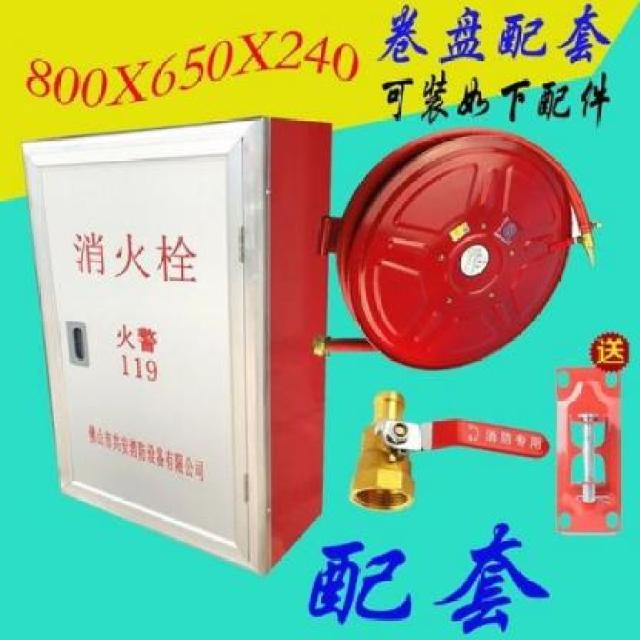firehydrant: (19, 111, 606, 583)
